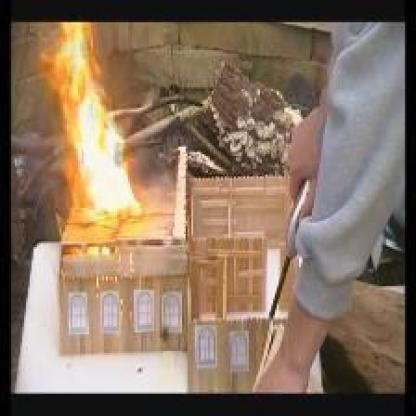fire: (35, 28, 139, 218)
